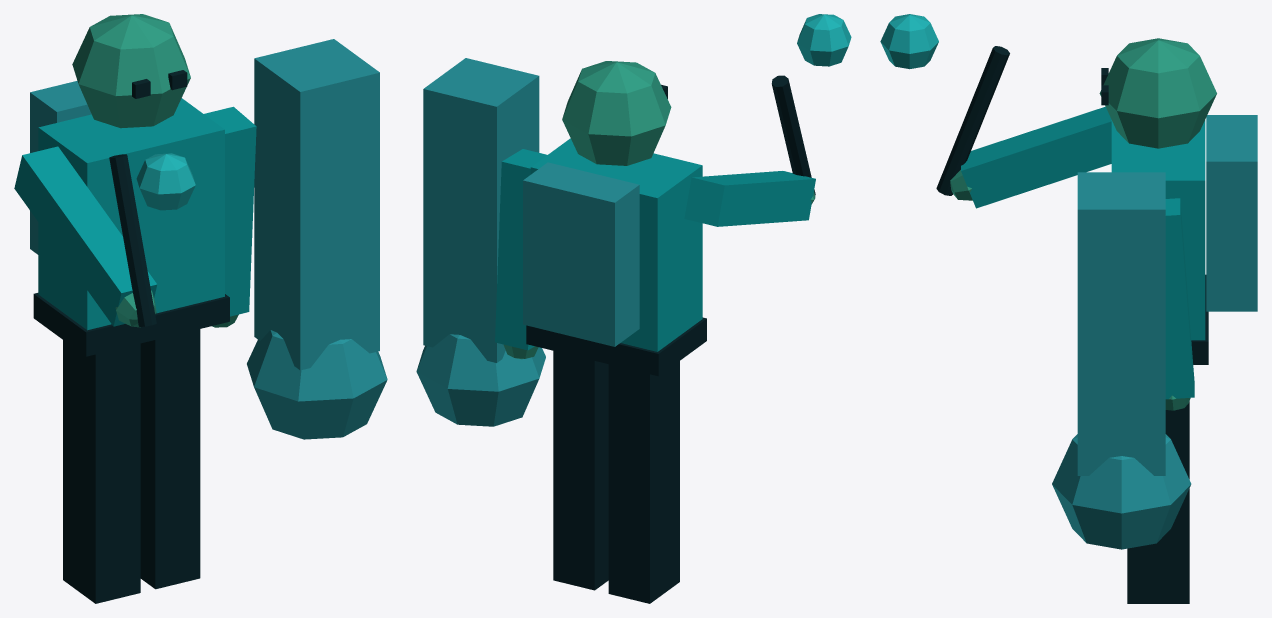
The model's file is SM_Champion_9005_Faire.glb.
The picture shows the model from 3 angles, left to right: view 1: azimuth 30°, elevation 25°; view 2: azimuth 150°, elevation 25°; view 3: azimuth 270°, elevation 25°; orthographic projection. The views are drawn at different scales.
Visible parts, largest first — view 1: SM_Champion_9005_Faire; view 2: SM_Champion_9005_Faire; view 3: SM_Champion_9005_Faire.
Part boxes in pixels (x1=…): SM_Champion_9005_Faire: x1=14, y1=14, x2=387, y2=603; SM_Champion_9005_Faire: x1=416, y1=14, x2=851, y2=603; SM_Champion_9005_Faire: x1=880, y1=14, x2=1257, y2=603.
Bounding box in the file's own units: 1.13 × 1.73 × 1.1.
